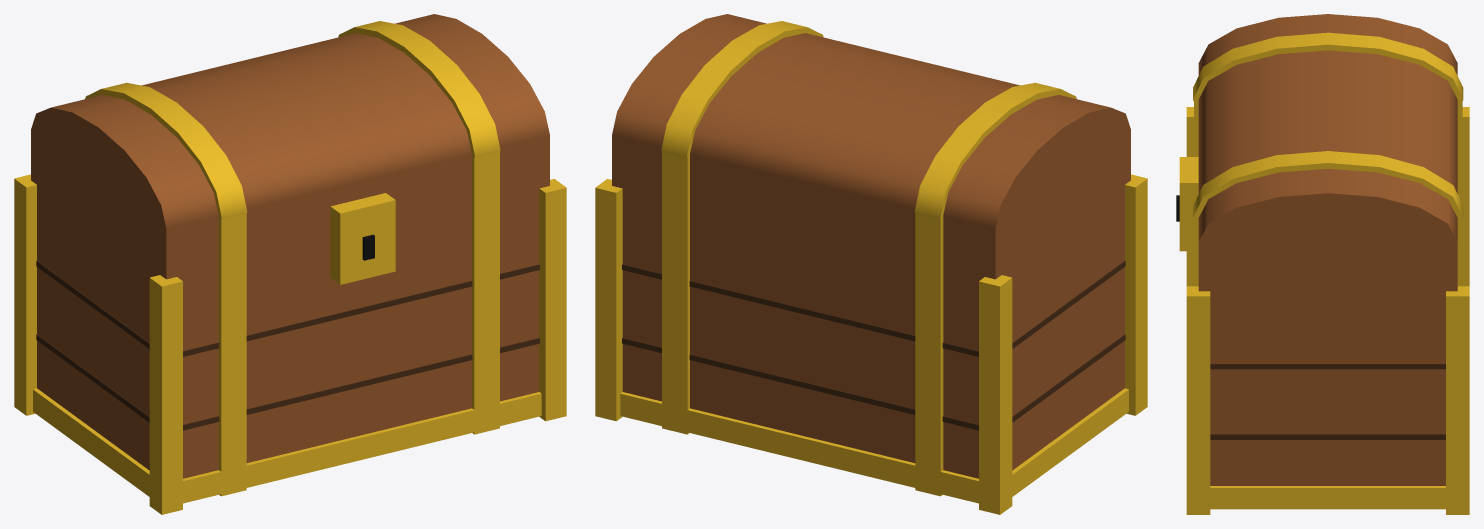
Rendered from Chest.obj.
3 renders of one model, left to right at view 1: azimuth 30°, elevation 25°; view 2: azimuth 150°, elevation 25°; view 3: azimuth 270°, elevation 25°, orthographic. The views are drawn at different scales.
Visible parts, largest first — view 1: Body, LidTop, Bands, LidBase, LidBands, Planks, Lock; view 2: Body, LidTop, Bands, LidBase, LidBands, Planks; view 3: LidTop, Body, Bands, LidBase, LidBands, Planks, Lock.
Part boxes in pixels (x1,y1,x2,y2): Body: (37,188,539,478); LidTop: (31,14,549,249); Bands: (14,174,566,514); LidBase: (31,130,549,279); LidBands: (85,21,500,270); Planks: (36,261,539,430); Lock: (330,193,395,284); Body: (622,188,1124,478); LidTop: (612,14,1130,249); Bands: (595,174,1147,514); LidBase: (612,130,1130,279); LidBands: (661,21,1076,270); Planks: (622,261,1125,430); LidTop: (1198,14,1457,291); Body: (1210,294,1445,485); Bands: (1186,107,1469,514); LidBase: (1198,242,1457,293); LidBands: (1193,32,1463,269); Planks: (1210,364,1445,439); Lock: (1179,157,1198,251).
Bounding box in the file's own units: 0.95 × 0.7551 × 0.622.
